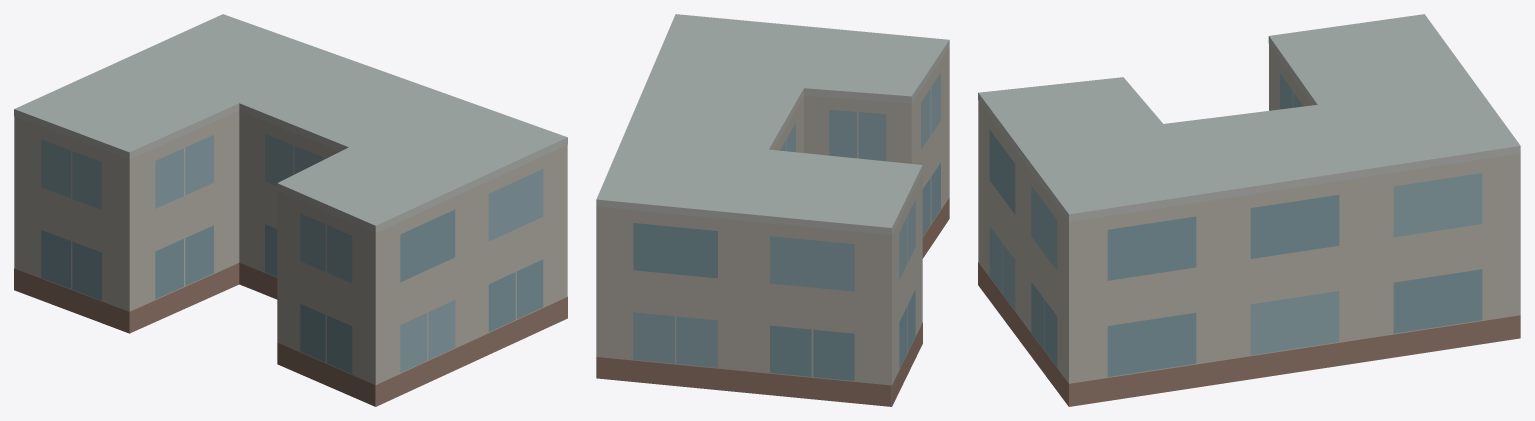
Rendered from survey-upis-33016981.glb.
The picture shows the model from 3 angles, left to right: view 1: azimuth 30°, elevation 25°; view 2: azimuth 150°, elevation 25°; view 3: azimuth 270°, elevation 25°; orthographic projection. The views are drawn at different scales.
Parts seen in each view (by area): view 1: survey-upis-33016981.tmp; view 2: survey-upis-33016981.tmp; view 3: survey-upis-33016981.tmp.
Boxes of the visible parts, bbox=[...] form: survey-upis-33016981.tmp: bbox=[14, 14, 567, 406]; survey-upis-33016981.tmp: bbox=[596, 14, 949, 406]; survey-upis-33016981.tmp: bbox=[978, 14, 1520, 406].
Size of the model in its own units: 13.63 by 6.1 by 15.59.
